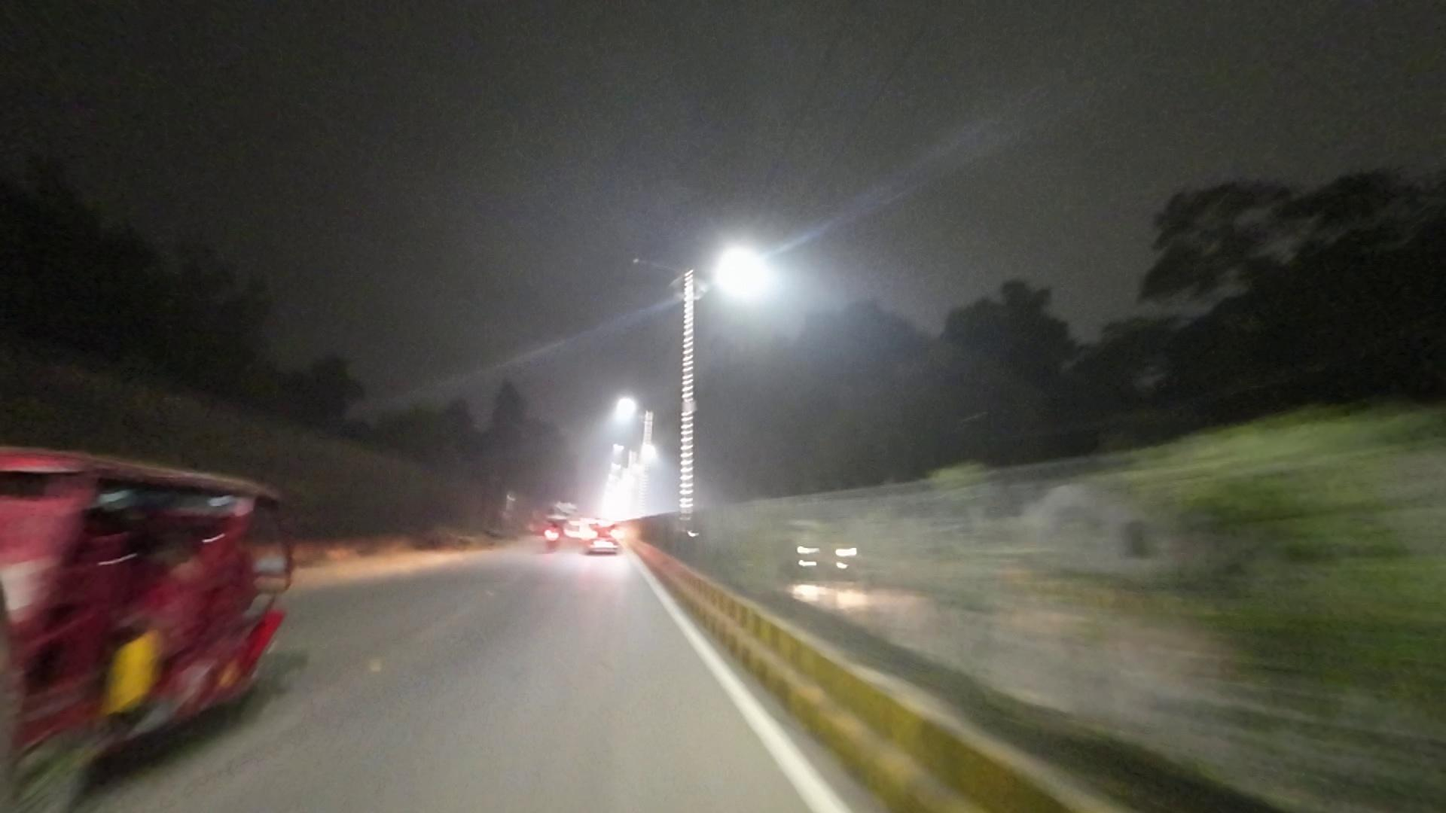streetlight: (629, 253, 677, 270)
